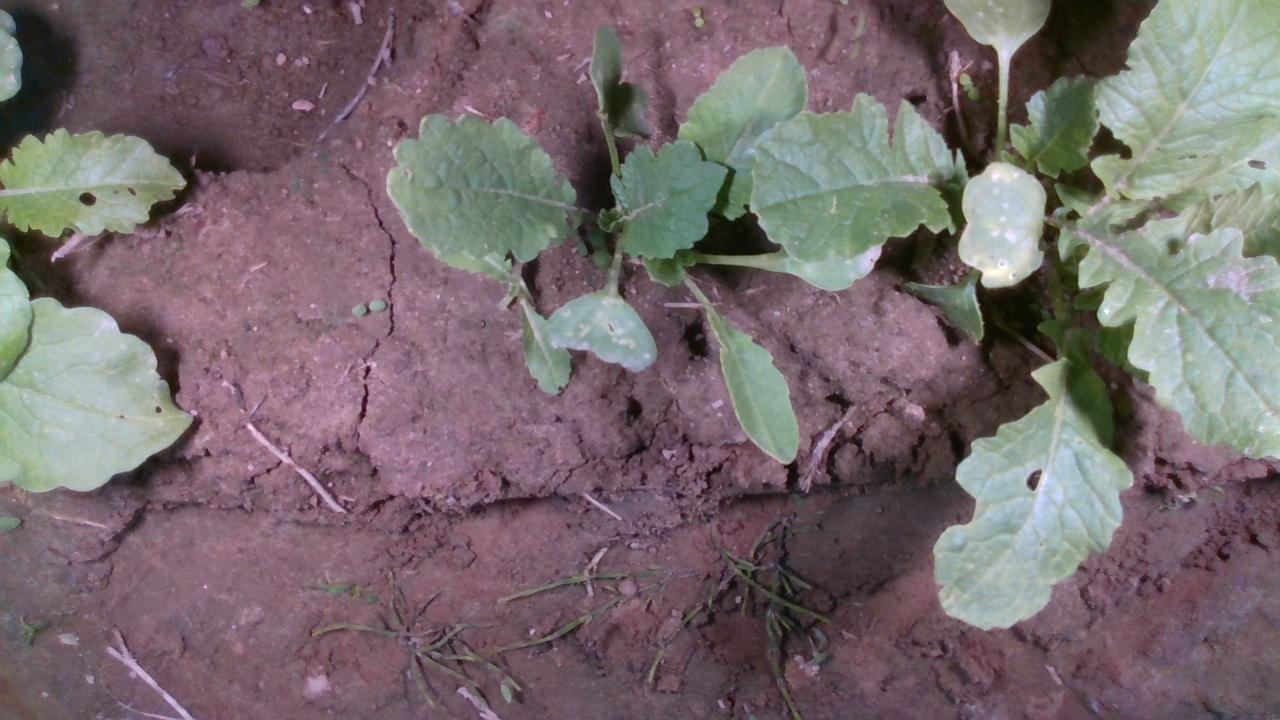weed: (349, 298, 387, 318), (958, 70, 980, 103), (689, 4, 704, 28)
